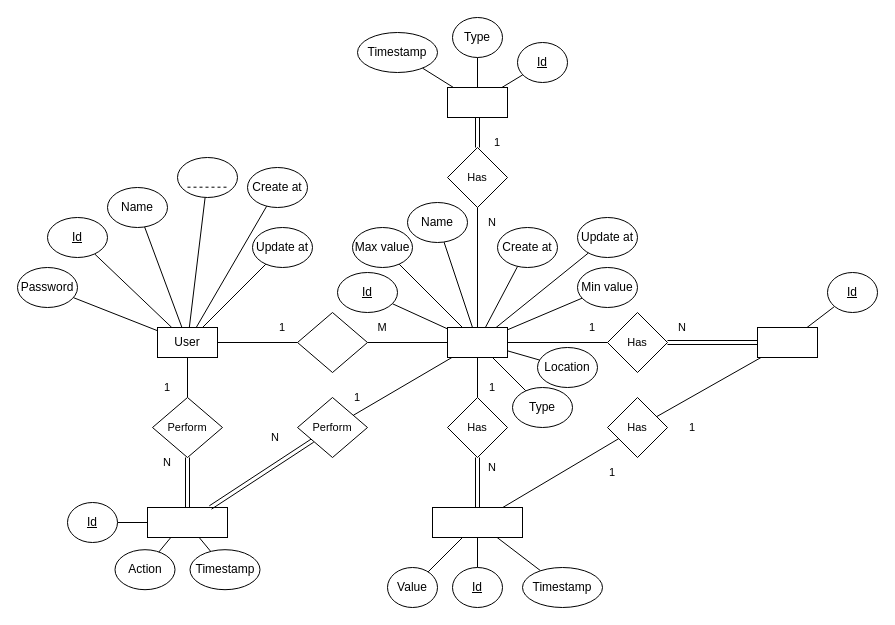
Some shapes in this 895 by 625 pixel diagram are drawn without their labels. The centre of each missing label's shape, as x and y in pixels:
"Alert" goes at point 787,342.
"Device" goes at point 477,342.
"Email" goes at point 207,177.
"Own" goes at point 332,342.
"Sensor data" goes at point 477,522.
"Status" goes at point 477,102.
"User log" goes at point 187,522.
